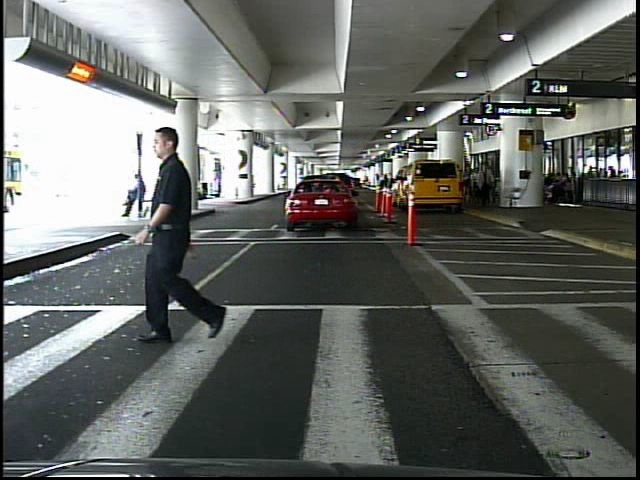person: (123, 124, 243, 351), (478, 163, 495, 208)
